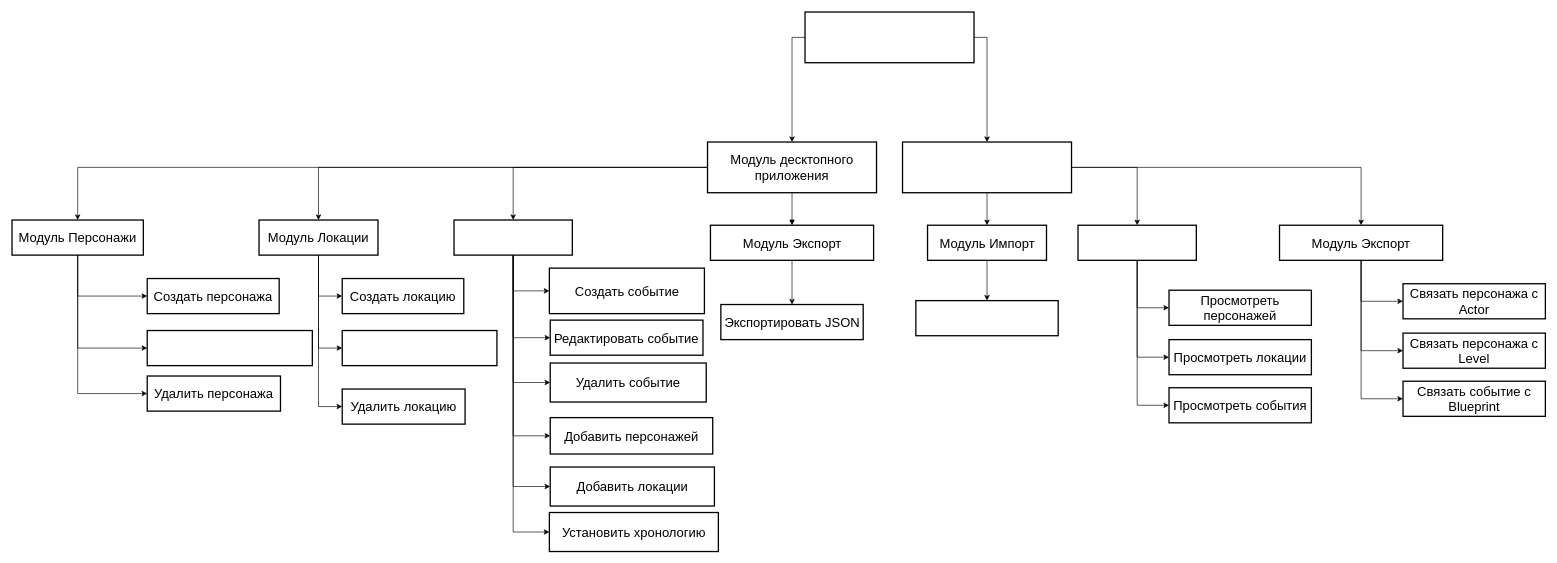
Some shapes in this 1557 by 563 pixel diagram are drawn without their labels. Here are the shapes that lost their labels. From the top down, the centre of each, then its label:
At (x=889, y=37): "Система для структуризации нарративного дизайна".
At (x=987, y=167): "Модуль плагина Unreal Engine".
At (x=513, y=237): "Модуль События".
At (x=1137, y=242): "Модуль визуализации".
At (x=987, y=318): "Импортировать JSON".
At (x=229, y=348): "Редактировать персонажа".
At (x=419, y=348): "Редактировать локацию".
